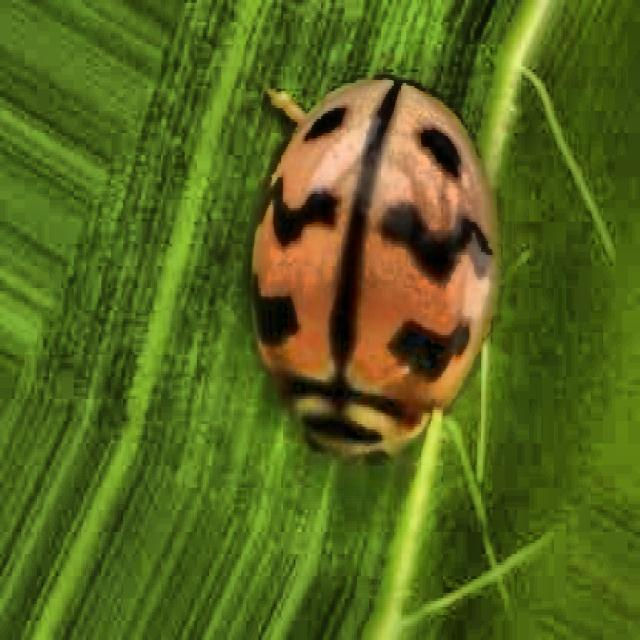Asian-Lady-beetle: (234, 34, 581, 582)
